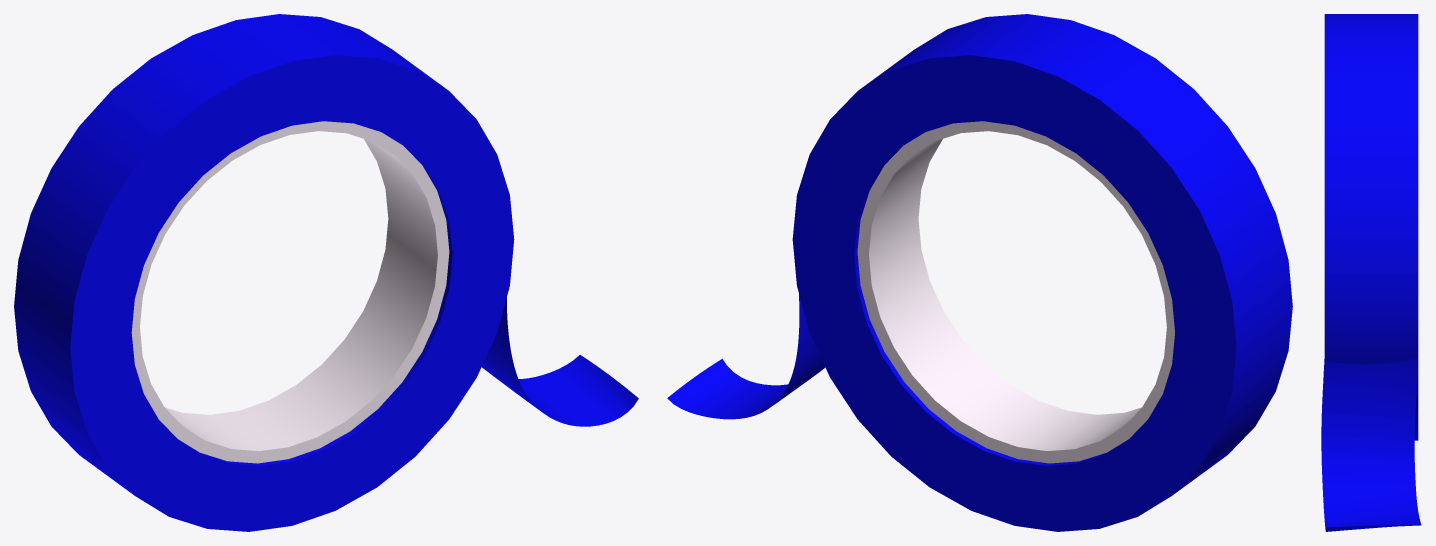
Rendered from tape.glb.
The picture shows the model from 3 angles, left to right: view 1: azimuth 30°, elevation 25°; view 2: azimuth 150°, elevation 25°; view 3: azimuth 270°, elevation 25°; orthographic projection. The views are drawn at different scales.
Visible parts, largest first — view 1: r0001.22308, r0000.88341, c0002.31791; view 2: r0001.22308, r0000.88341, c0002.31791; view 3: r0001.22308, c0002.31791.
Boxes of the visible parts, x1,y1,x2,y2 form: r0001.22308: (14, 14, 514, 531); r0000.88341: (131, 121, 449, 463); c0002.31791: (482, 295, 638, 426); r0001.22308: (792, 14, 1292, 531); r0000.88341: (857, 121, 1174, 463); c0002.31791: (667, 294, 825, 419); r0001.22308: (1324, 14, 1418, 440); c0002.31791: (1321, 358, 1421, 531).
Bounding box in the file's own units: 9.94 × 7.75 × 1.82.
